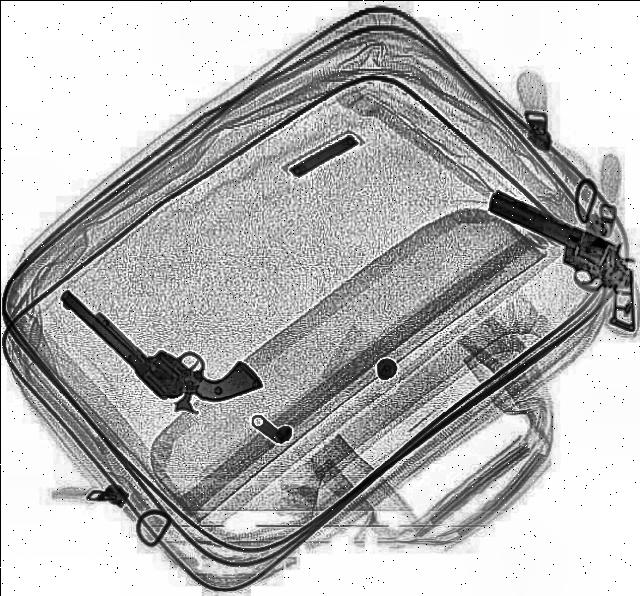Gun: (56, 245, 268, 434), (470, 188, 640, 300)
